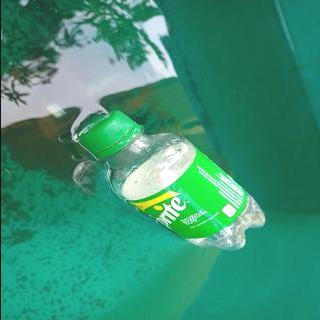bottle: (75, 110, 266, 251)
